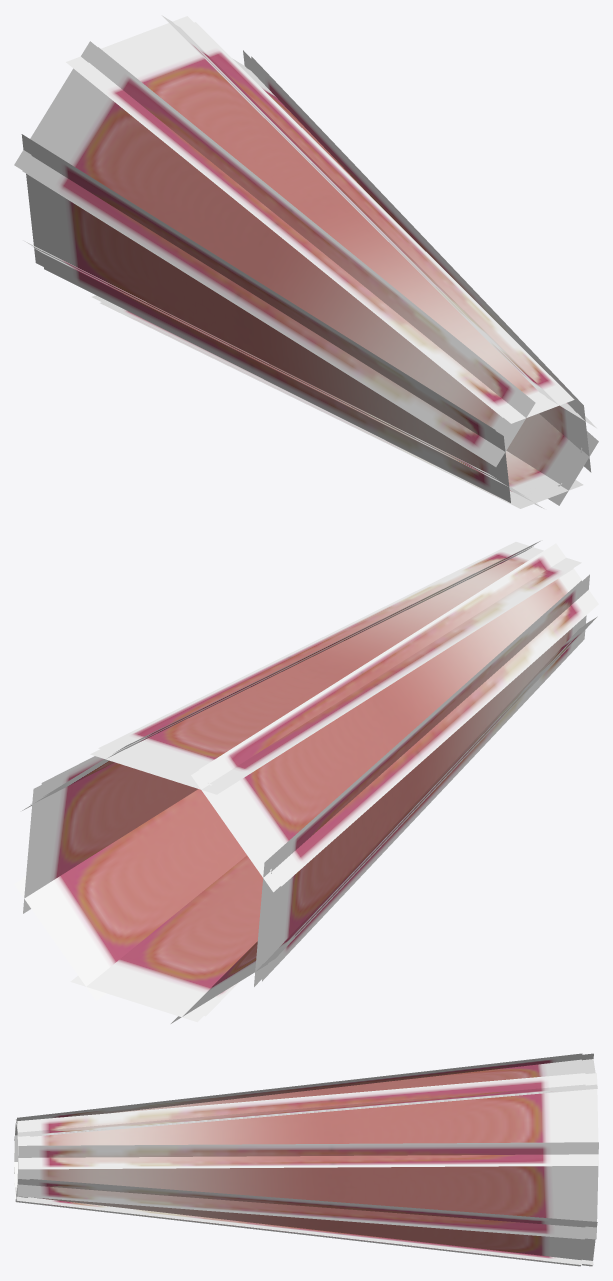
File: light-beam.fbx
3 renders of one model, top to bottom at view 1: azimuth 30°, elevation 25°; view 2: azimuth 150°, elevation 25°; view 3: azimuth 270°, elevation 25°, orthographic. The views are drawn at different scales.
Visible parts, largest first — view 1: Cylinder.001; view 2: Cylinder.001; view 3: Cylinder.001.
Part boxes in pixels (left/top/right/bottom): Cylinder.001: left=14, top=15, right=598, bottom=508; Cylinder.001: left=14, top=541, right=598, bottom=1023; Cylinder.001: left=14, top=1053, right=598, bottom=1266.
Bounding box in the file's own units: 5.89 × 5.89 × 16.41.
Materials: 1 (1 with a texture image).
